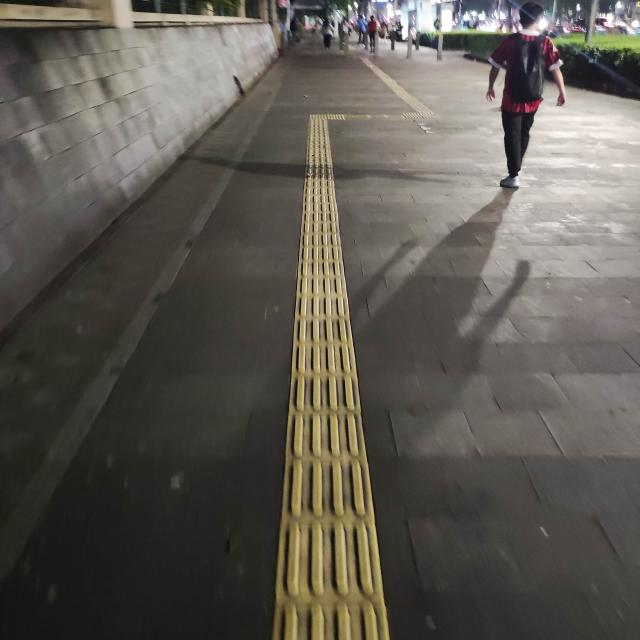lurus: (289, 125, 364, 640)
